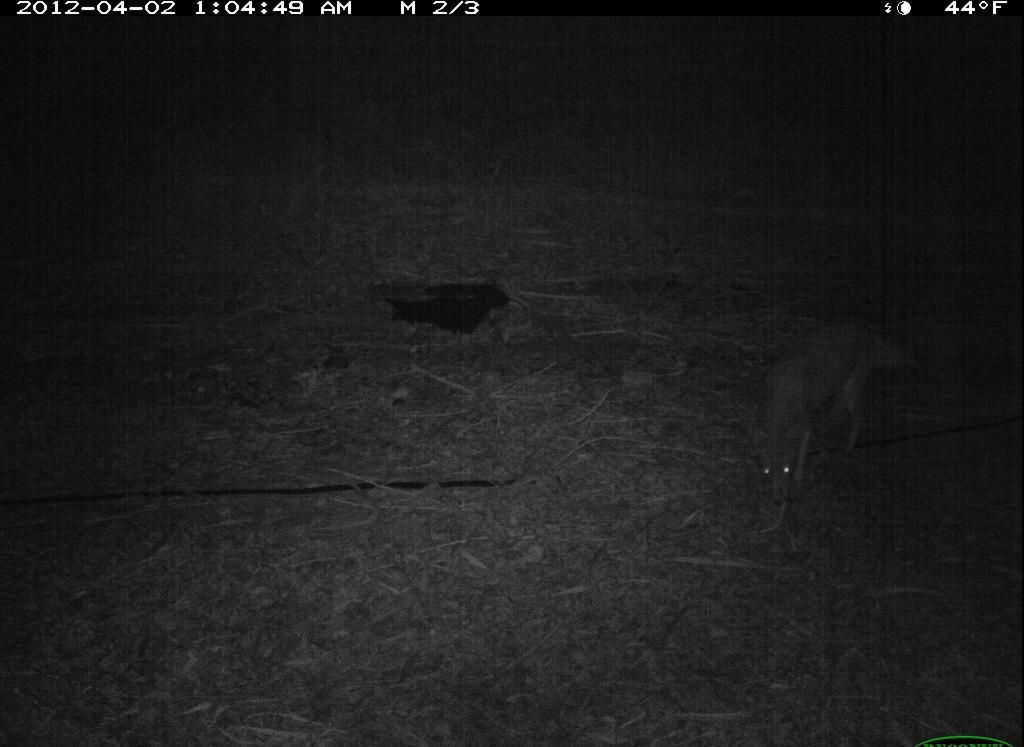coyote: (747, 322, 886, 511)
